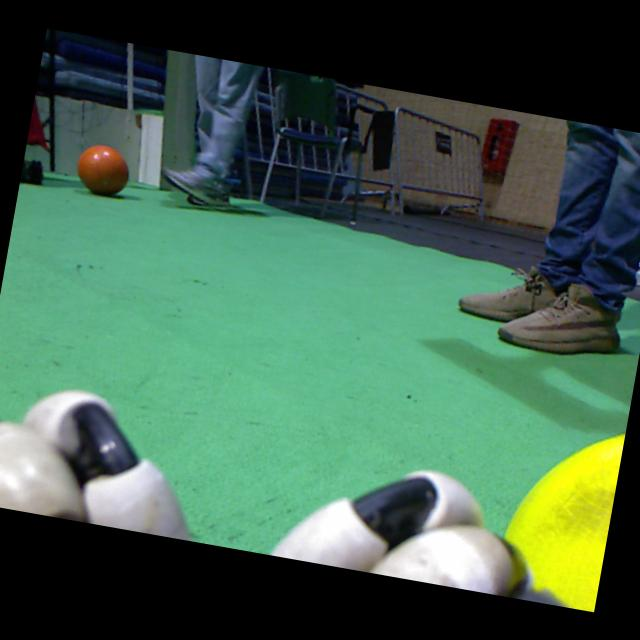ball: (502, 433, 624, 611), (78, 145, 128, 195)
goal: (173, 51, 195, 172)
